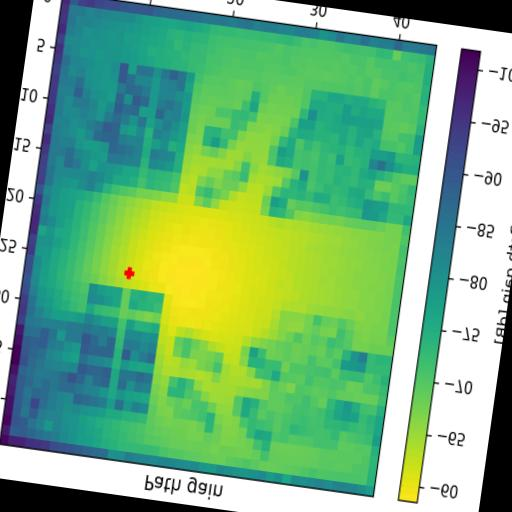Concrete: (261, 311, 356, 450)
Glass: (72, 284, 164, 415)
Metal: (286, 90, 388, 230)
Wood: (102, 62, 196, 204)
